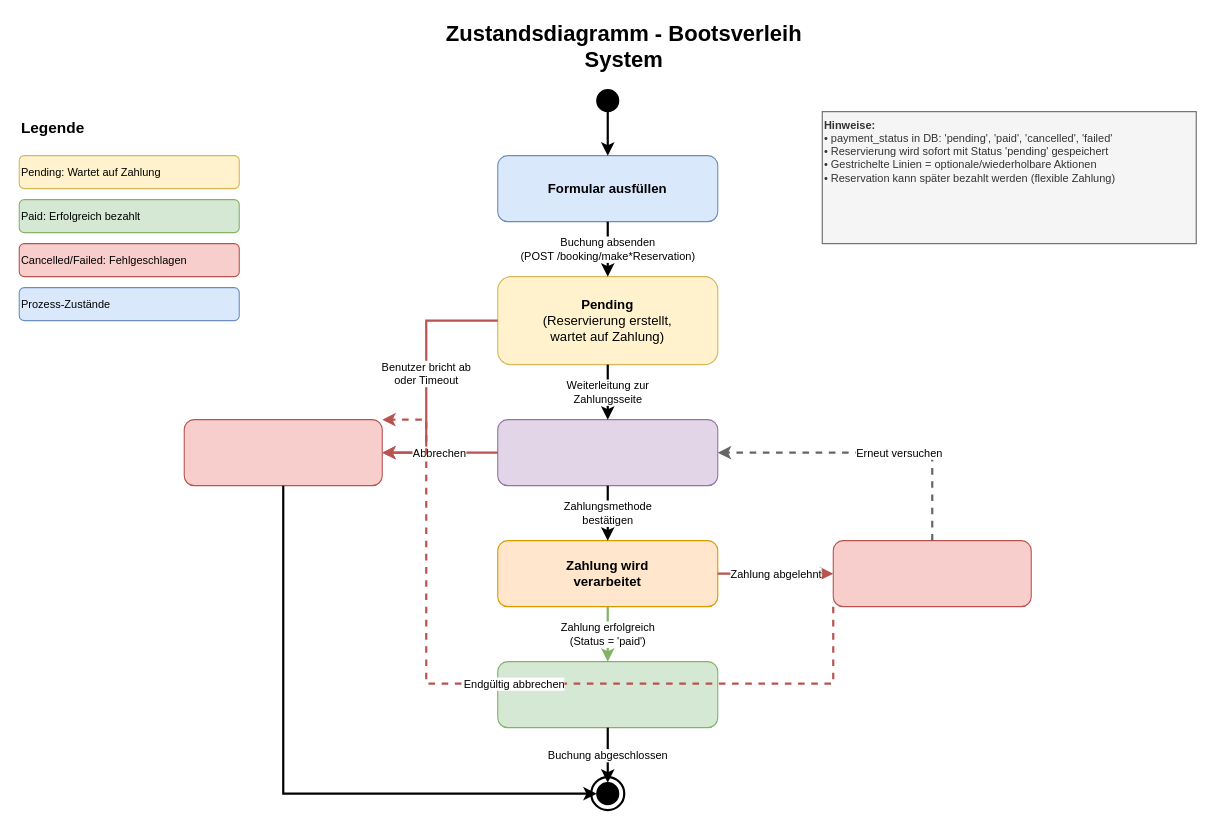
Some shapes in this 1216 by 829 pixel diagram are drawn without their labels. Here are the shapes that lost their labels. From the top down, the centre of each, then its label:
At (282,452): "Cancelled (Storniert)".
At (607,452): "Zahlungsmethode auswählen".
At (931,573): "Failed (Zahlung fehlgeschlagen)".
At (607,694): "Paid (Bezahlt/Abgeschlossen)".
